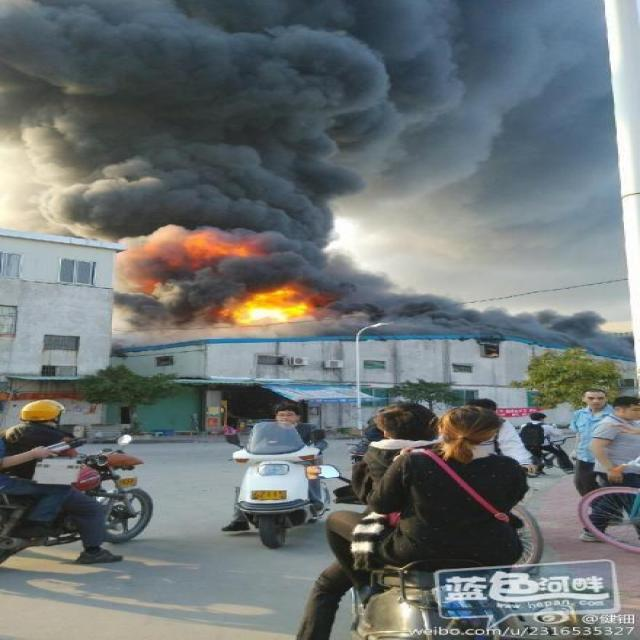fire: (223, 284, 314, 323)
smoke: (0, 2, 640, 351)
